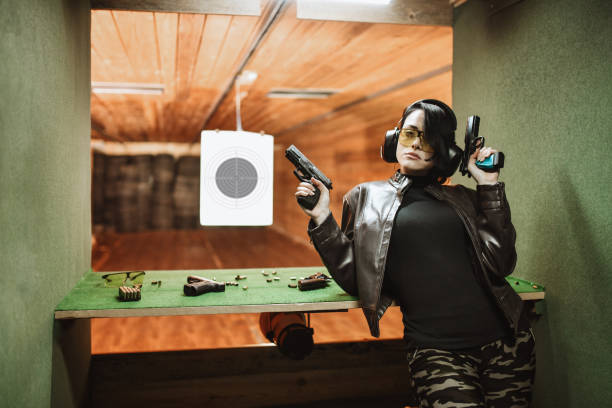gun: (283, 143, 334, 210), (459, 114, 504, 178), (181, 274, 226, 296), (298, 271, 329, 290)
